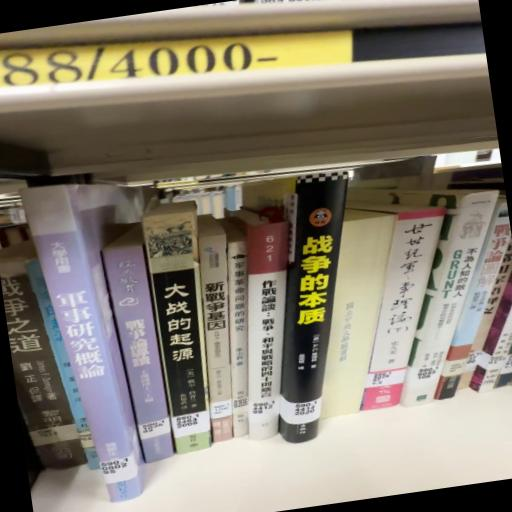backward: (321, 201, 396, 427)
book: (19, 179, 150, 512), (253, 174, 390, 449), (330, 207, 470, 418), (219, 219, 320, 448), (138, 202, 227, 459), (1, 233, 89, 478), (307, 218, 411, 422), (102, 239, 178, 468)
